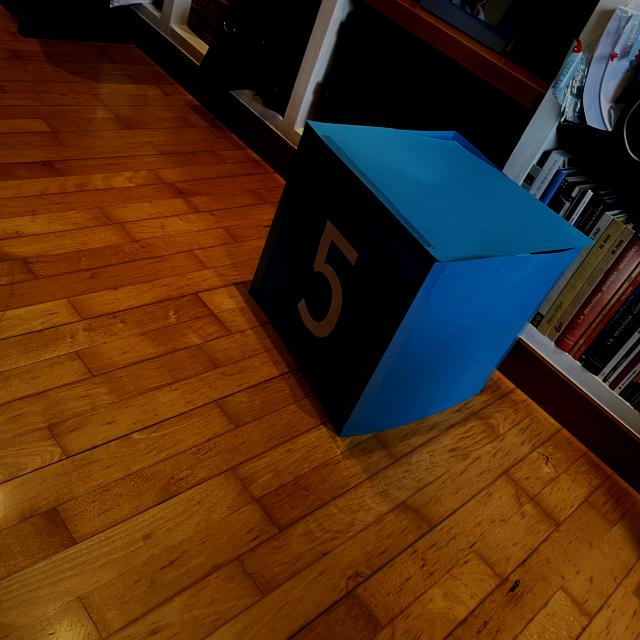box: (247, 117, 596, 439)
